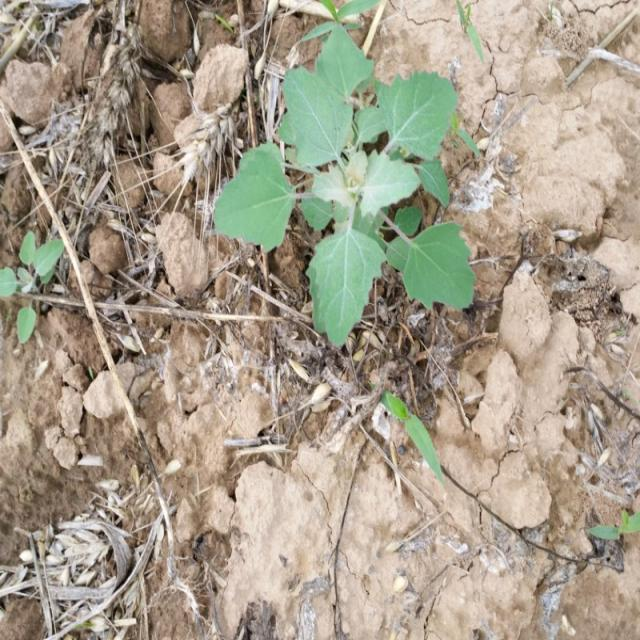goosefoots: (213, 42, 468, 332)
